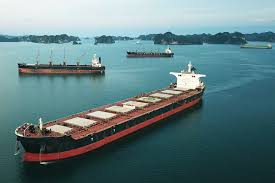tau_dansu: (23, 79, 211, 157), (15, 50, 110, 77), (123, 43, 180, 57)
